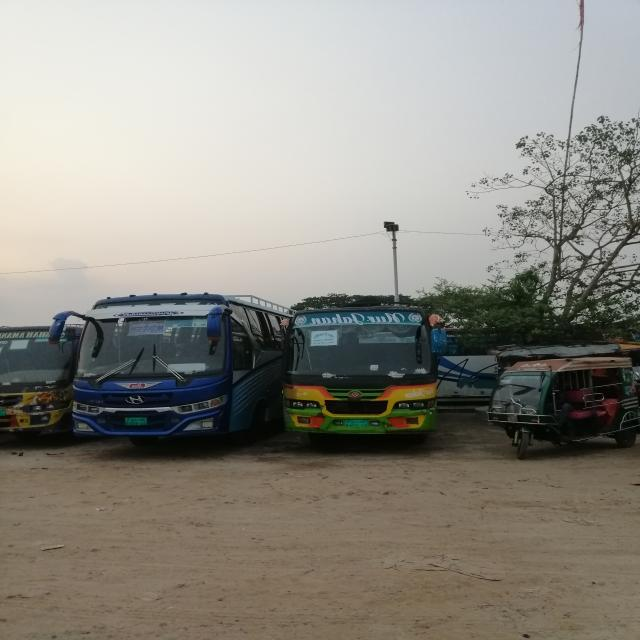Bus: (58, 293, 272, 446), (278, 304, 457, 447)
